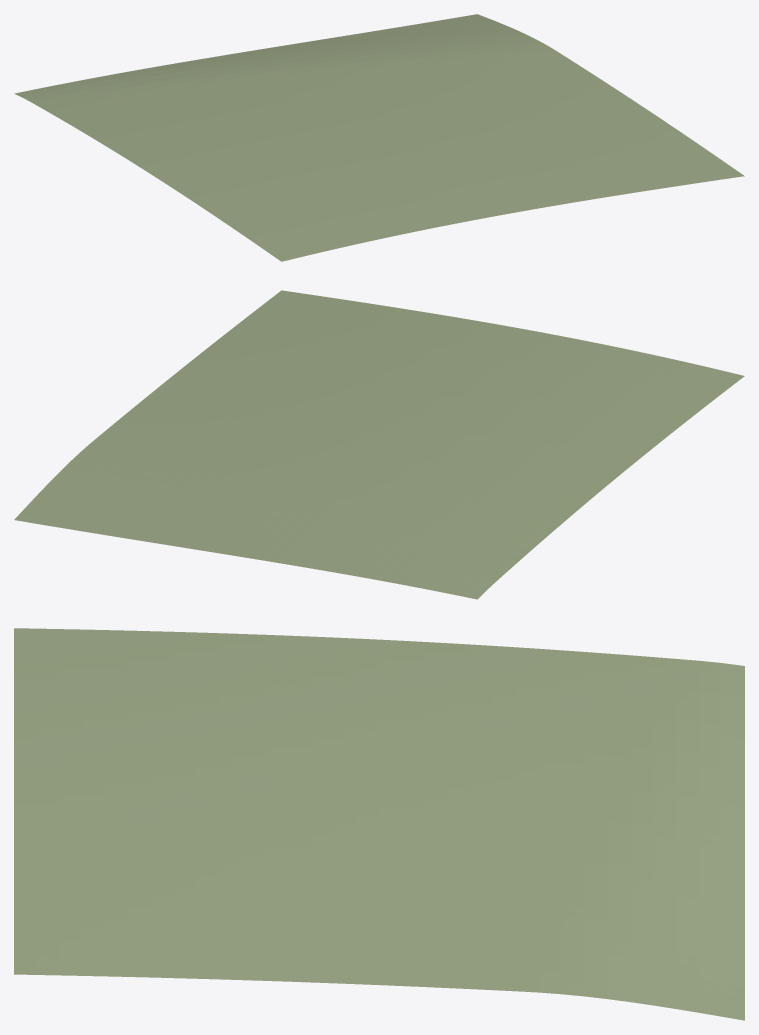
File: valley-11-9.glb
3 views of the same model, one above another, from view 1: azimuth 30°, elevation 25°; view 2: azimuth 150°, elevation 25°; view 3: azimuth 270°, elevation 25° (orthographic). The views are drawn at different scales.
Parts seen in each view (by area): view 1: valley-11-9; view 2: valley-11-9; view 3: valley-11-9.
Boxes of the visible parts, <box> form: valley-11-9: <box>14,14,744,261</box>; valley-11-9: <box>14,290,744,599</box>; valley-11-9: <box>14,628,744,1020</box>.
Bounding box in the file's own units: 256 × 32.31 × 256.
